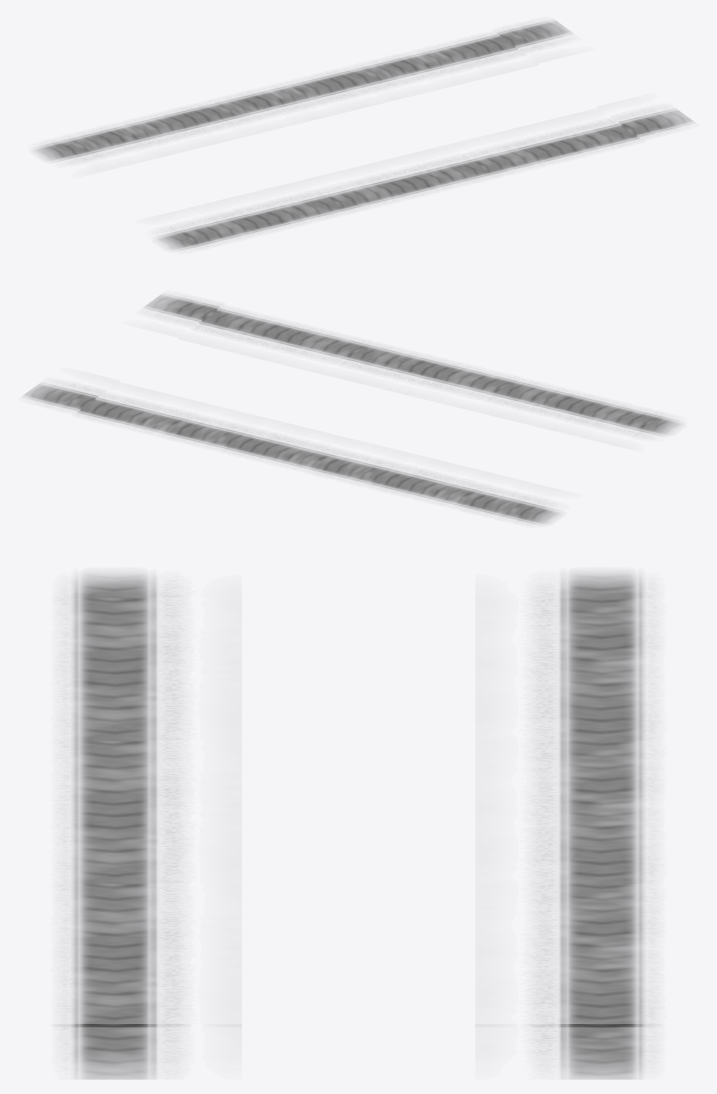
Rendered from trail_ext_hb1_v4_4d9ef3db.glb.
3 renders of one model, top to bottom at view 1: azimuth 30°, elevation 25°; view 2: azimuth 150°, elevation 25°; view 3: azimuth 270°, elevation 25°, orthographic. The views are drawn at different scales.
Visible parts, largest first — view 1: Trail_Ext_HB1; view 2: Trail_Ext_HB1; view 3: Trail_Ext_HB1.
Boxes of the visible parts, x1,y1,x2,y2 form: Trail_Ext_HB1: (36, 20, 693, 250); Trail_Ext_HB1: (23, 293, 680, 524); Trail_Ext_HB1: (54, 573, 660, 1079).
Size of the model in its own units: 58.2 by 0.1812 by 29.39.
1 material, 1 textured.
